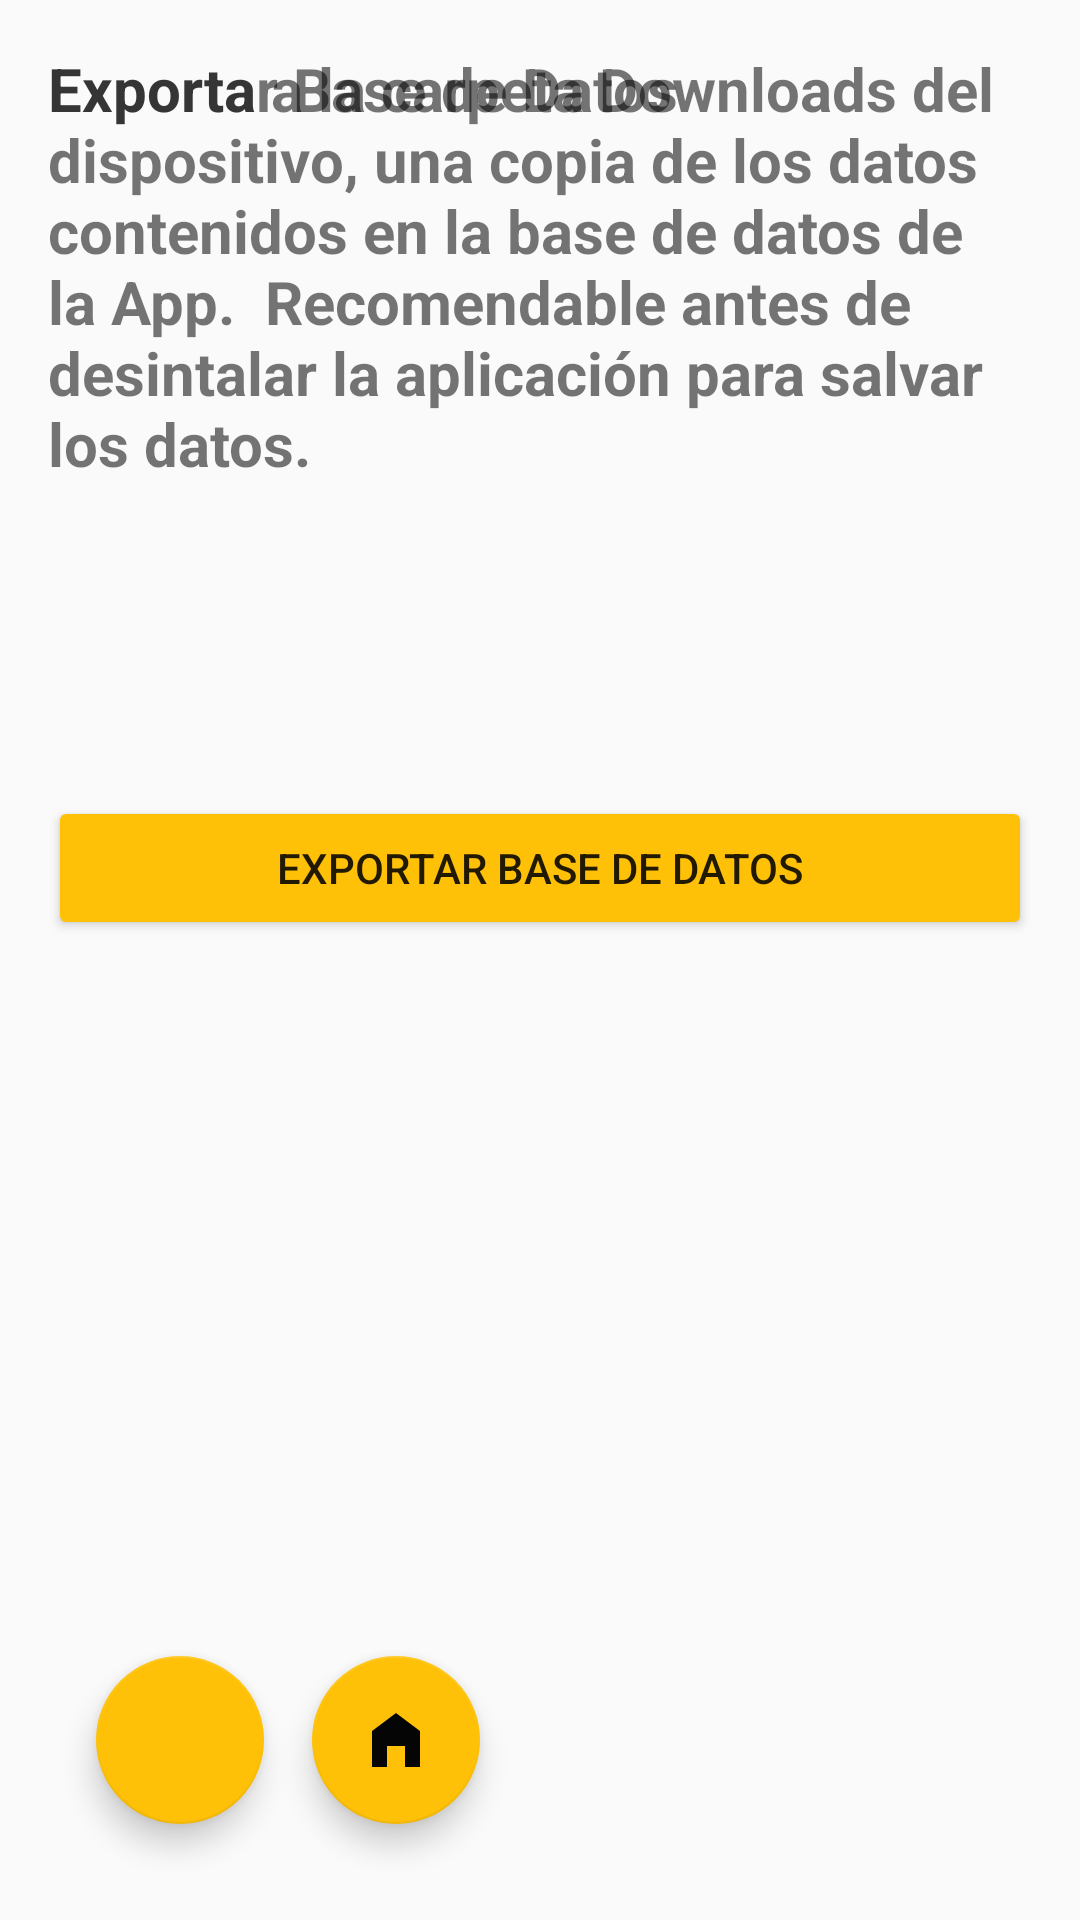

Screen size 1080x1920. Icon name, then its center in pixels as (x=x, y=y):
home: (x=396, y=1740)
